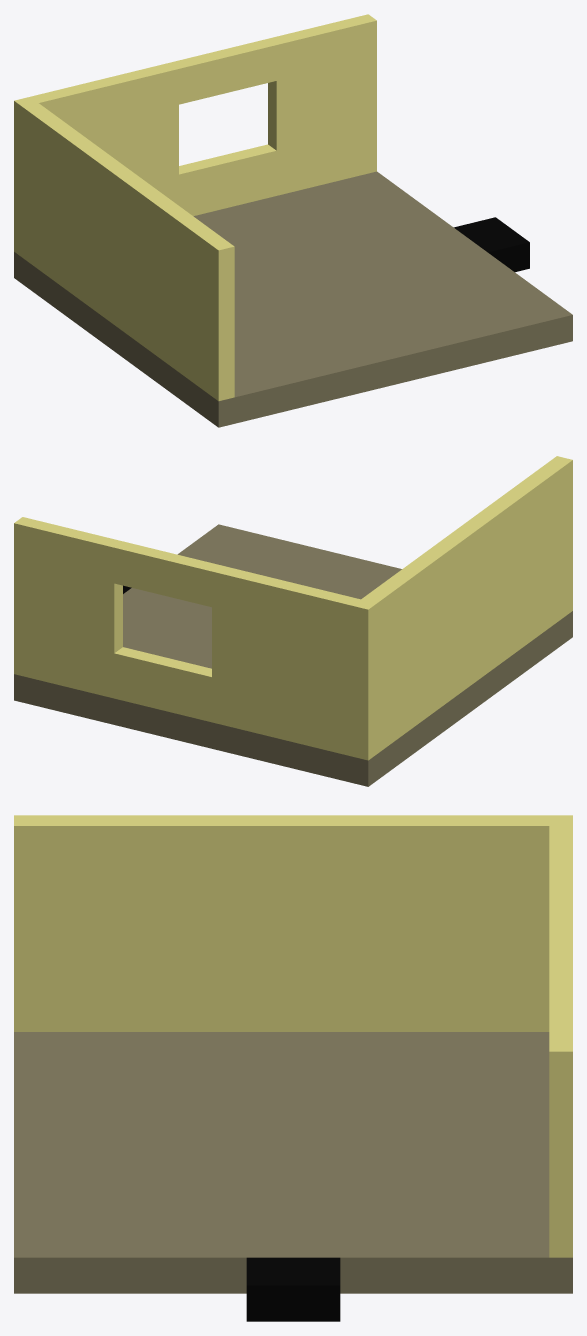
The model's file is HomeBase.fbx.
The picture shows the model from 3 angles, top to bottom: view 1: azimuth 30°, elevation 25°; view 2: azimuth 150°, elevation 25°; view 3: azimuth 270°, elevation 25°; orthographic projection. The views are drawn at different scales.
Visible parts, largest first — view 1: Plane; view 2: Plane; view 3: Plane.
Part boxes in pixels (x1,y1,x2,y2): Plane: (14, 14, 572, 427); Plane: (14, 456, 572, 786); Plane: (14, 815, 572, 1321).
Bounding box in the file's own units: 11.19 × 4.78 × 10.
